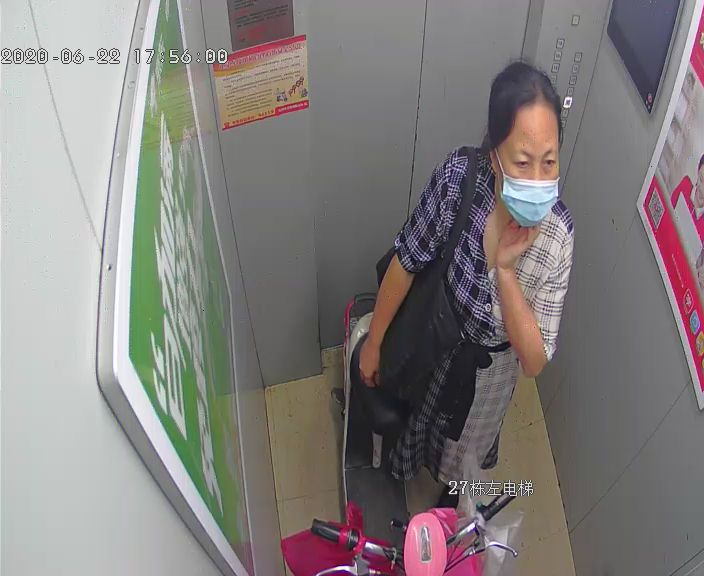Electric-bicycle: (312, 289, 519, 576)
